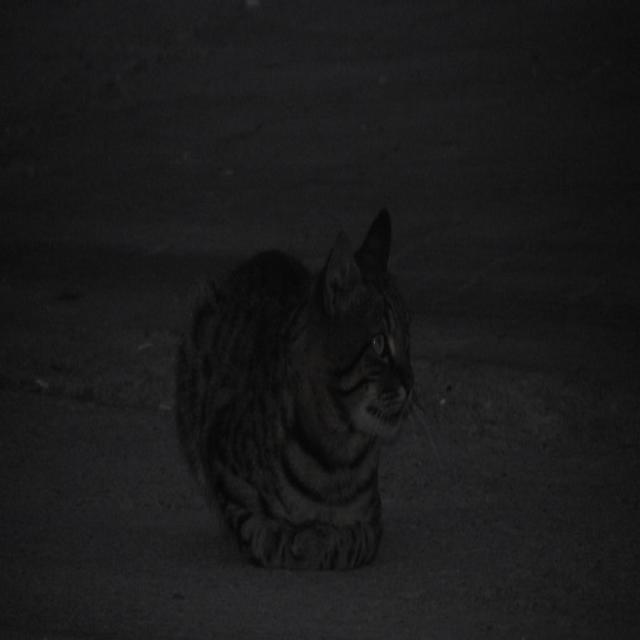Cat: (162, 208, 430, 587)
